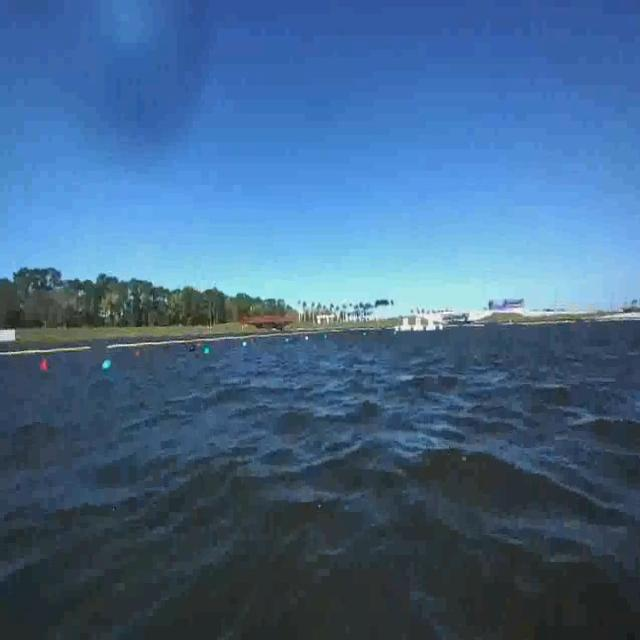green-buoy: (102, 358, 113, 372)
red-buoy: (40, 359, 49, 371)
